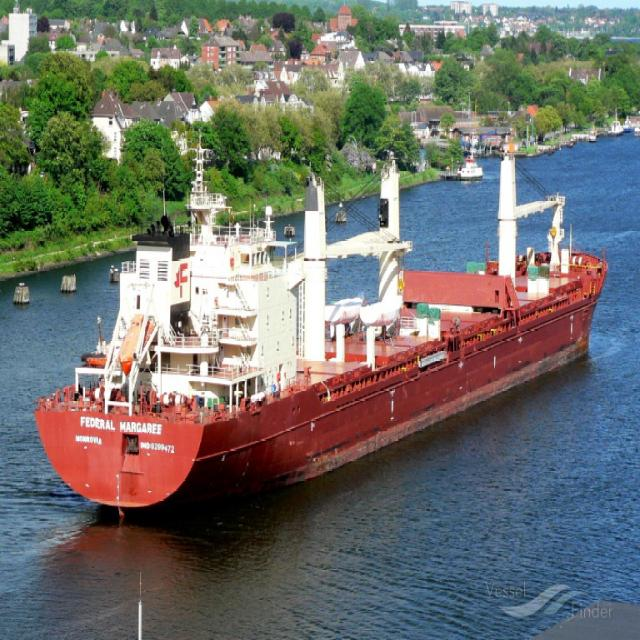OCR: (64, 408, 181, 456)
